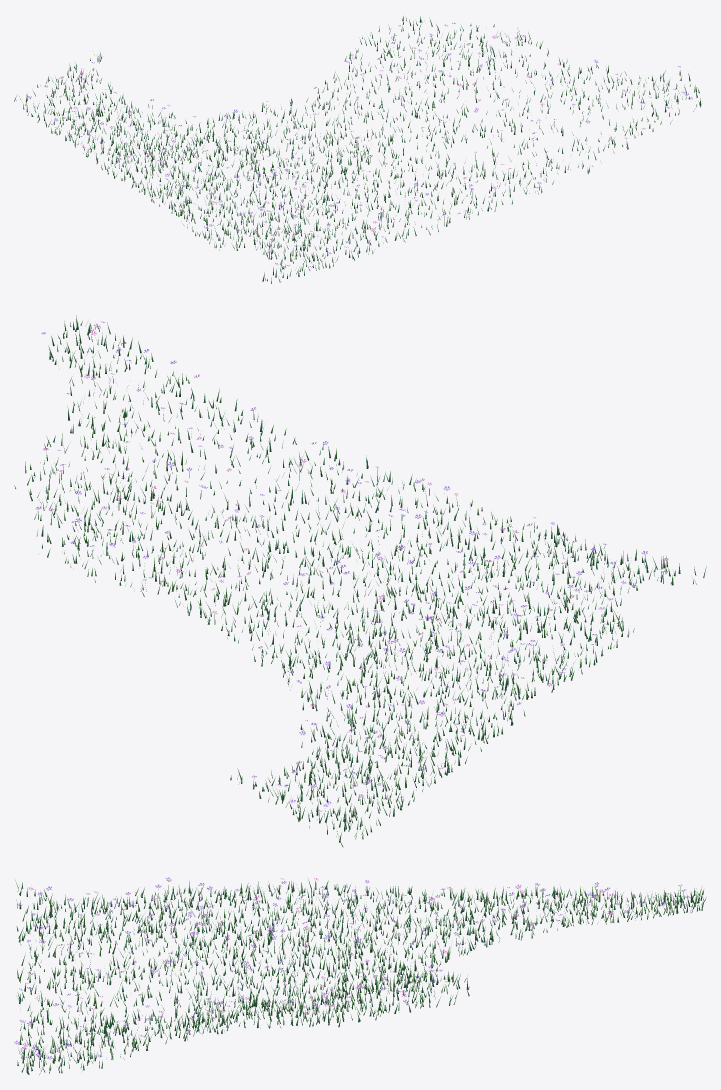
The picture shows the model from 3 angles, top to bottom: view 1: azimuth 30°, elevation 25°; view 2: azimuth 150°, elevation 25°; view 3: azimuth 270°, elevation 25°; orthographic projection. The views are drawn at different scales.
Parts seen in each view (by area): view 1: gc_29; view 2: gc_29; view 3: gc_29.
Boxes of the visible parts, x1,y1,x2,y2 form: gc_29: [14, 16, 701, 283]; gc_29: [14, 315, 706, 846]; gc_29: [14, 877, 706, 1074].
Bounding box in the file's own units: 18.12 × 3.71 × 18.13.
Materials: 1 (1 with a texture image).
